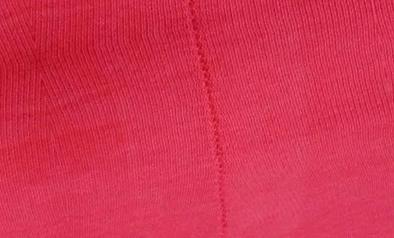slub: (185, 0, 229, 236)
